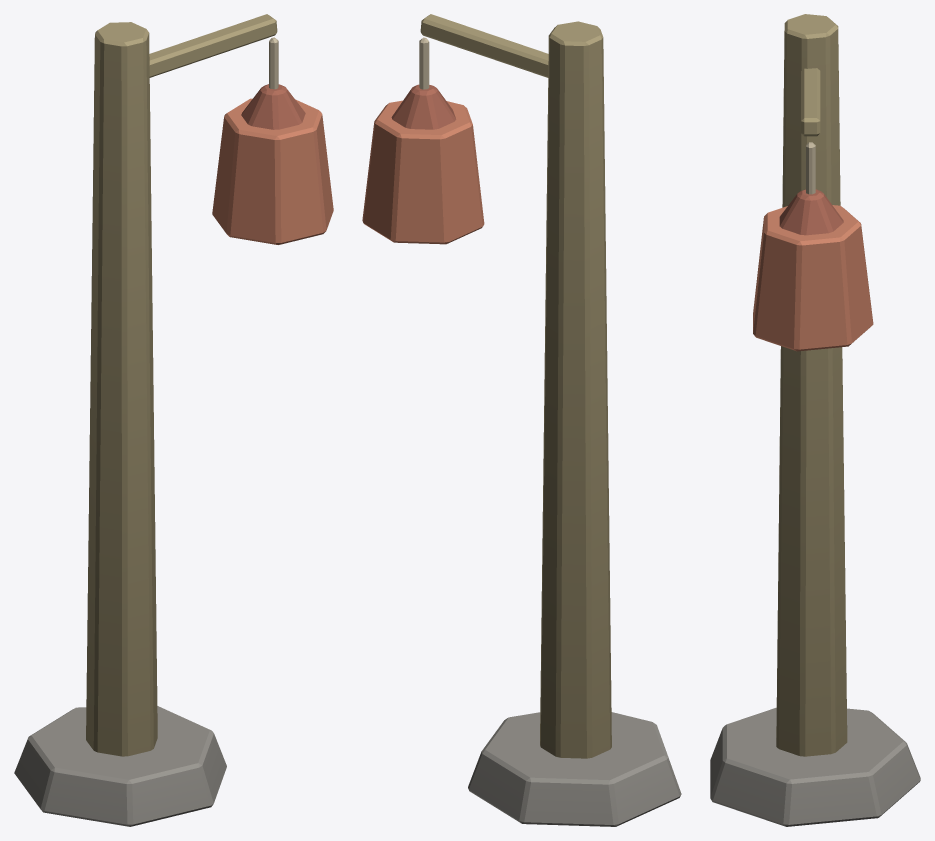
File: iv_lantern.glb
3 renders of one model, left to right at view 1: azimuth 30°, elevation 25°; view 2: azimuth 150°, elevation 25°; view 3: azimuth 270°, elevation 25°, orthographic.
Visible parts, largest first — view 1: iv_lantern; view 2: iv_lantern; view 3: iv_lantern.
Part boxes in pixels (box(x1,y1,x2,y2)): iv_lantern: box(14, 14, 333, 826); iv_lantern: box(362, 14, 681, 826); iv_lantern: box(710, 14, 920, 826).
Bounding box in the file's own units: 1.08 × 2.6 × 0.6545.
